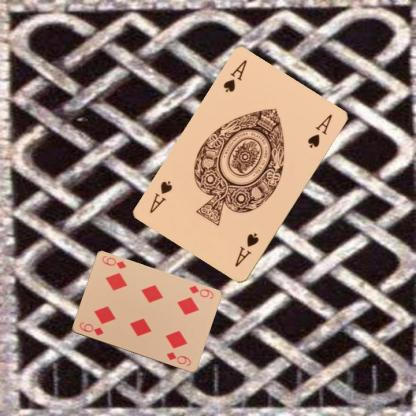6d: (76, 319, 105, 337), (186, 283, 215, 301)
As: (232, 231, 260, 268), (221, 57, 248, 94)
